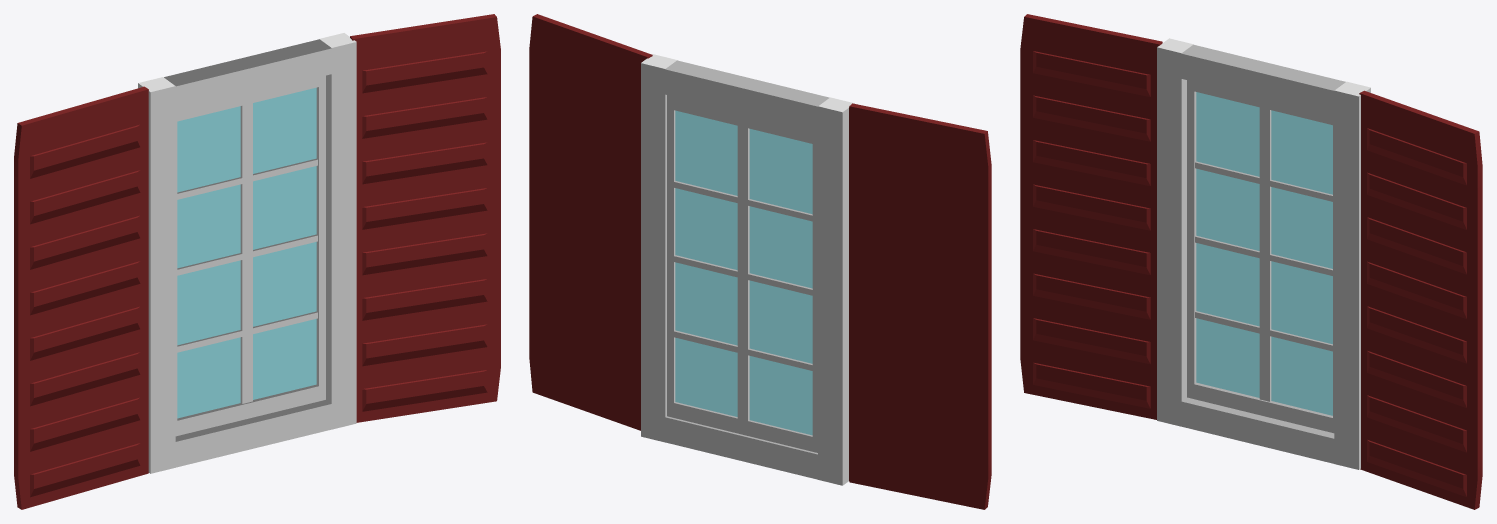
Rendered from ebeb3d2b-03d8-4798-a09a-9f39895abbad.glb.
3 views of the same model, side by side, from view 1: azimuth 30°, elevation 25°; view 2: azimuth 150°, elevation 25°; view 3: azimuth 330°, elevation 25° (orthographic). The views are drawn at different scales.
Parts seen in each view (by area): view 1: Box007; view 2: Box007; view 3: Box007.
Part boxes in pixels (x1,y1,x2,y2): Box007: [14, 14, 500, 509]; Box007: [529, 14, 991, 509]; Box007: [1020, 14, 1482, 509].
Bounding box in the file's own units: 157 × 121 × 13.62.
